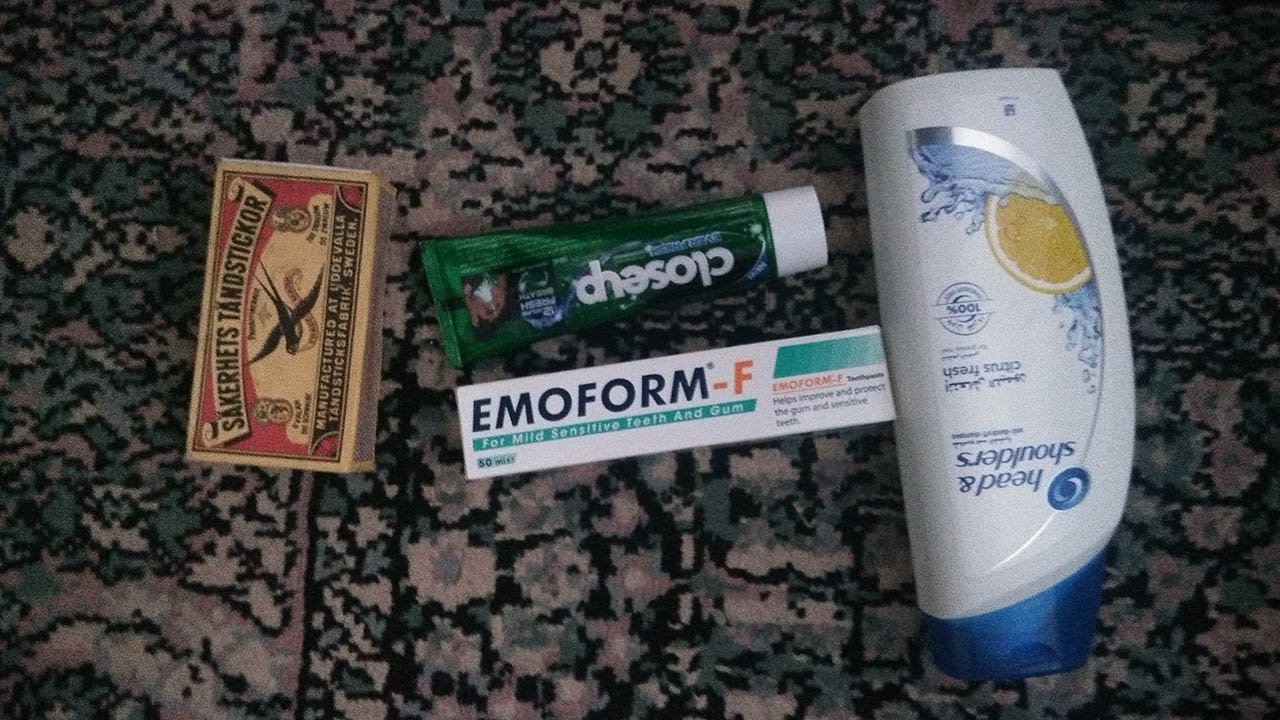Toothpaste-Closeup 3.04$: (426, 211, 829, 331)
Toothpaste-F 1.5$: (458, 320, 903, 486)
match-sticks .90$: (176, 132, 412, 474)
shampoo-Lemon 3.5$: (867, 58, 1181, 686)
